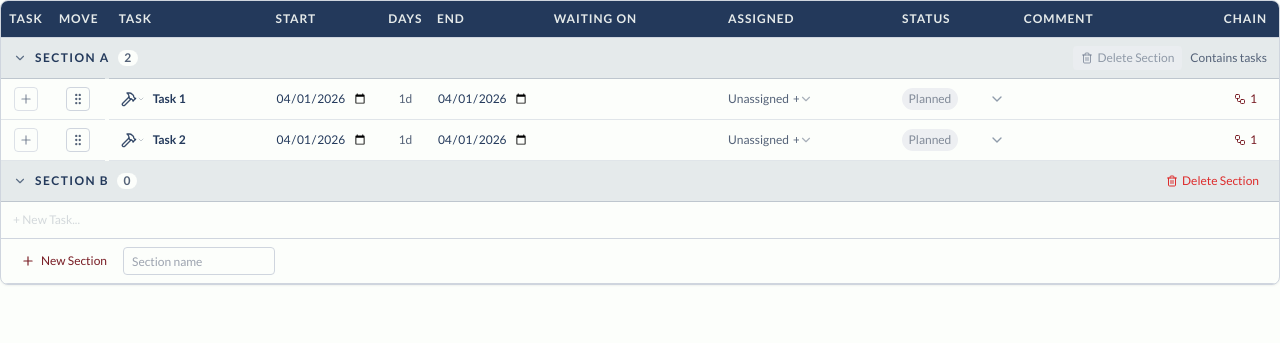
Test case: ScheduleTable move mode › creates a new task below the clicked row
Click the button named "Add task below" next to "Task 1".
click(26, 99)  # box [14,87,38,111]
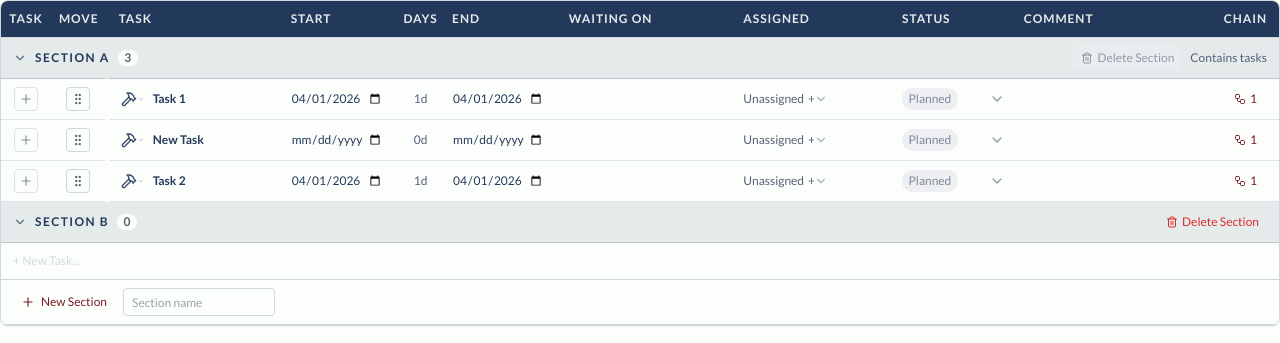
expect the text "New Task" is shown: met, box [153,132,204,148]
